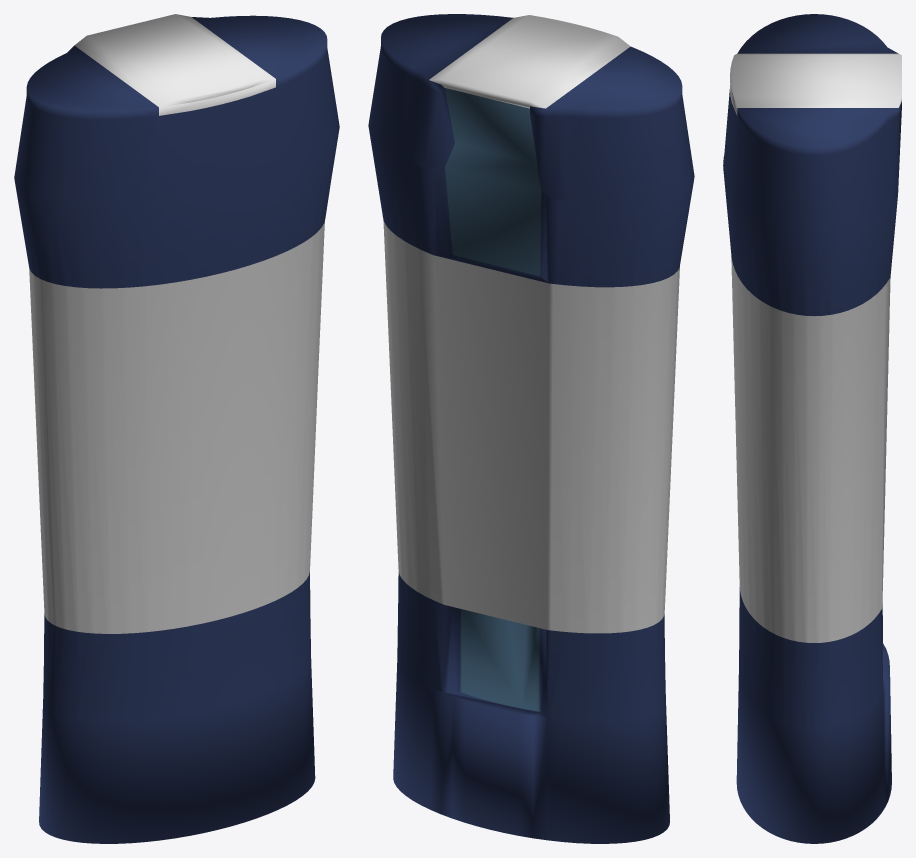
3 views of the same model, side by side, from view 1: azimuth 30°, elevation 25°; view 2: azimuth 150°, elevation 25°; view 3: azimuth 270°, elevation 25° (orthographic). The views are drawn at different scales.
Visible parts, largest first — view 1: body soap; view 2: body soap; view 3: body soap.
Part boxes in pixels (x1,y1,x2,y2): body soap: (14, 14, 339, 843); body soap: (368, 14, 694, 843); body soap: (723, 14, 901, 843).
Size of the model in its own units: 0.3834 by 0.2002 by 0.8735.
